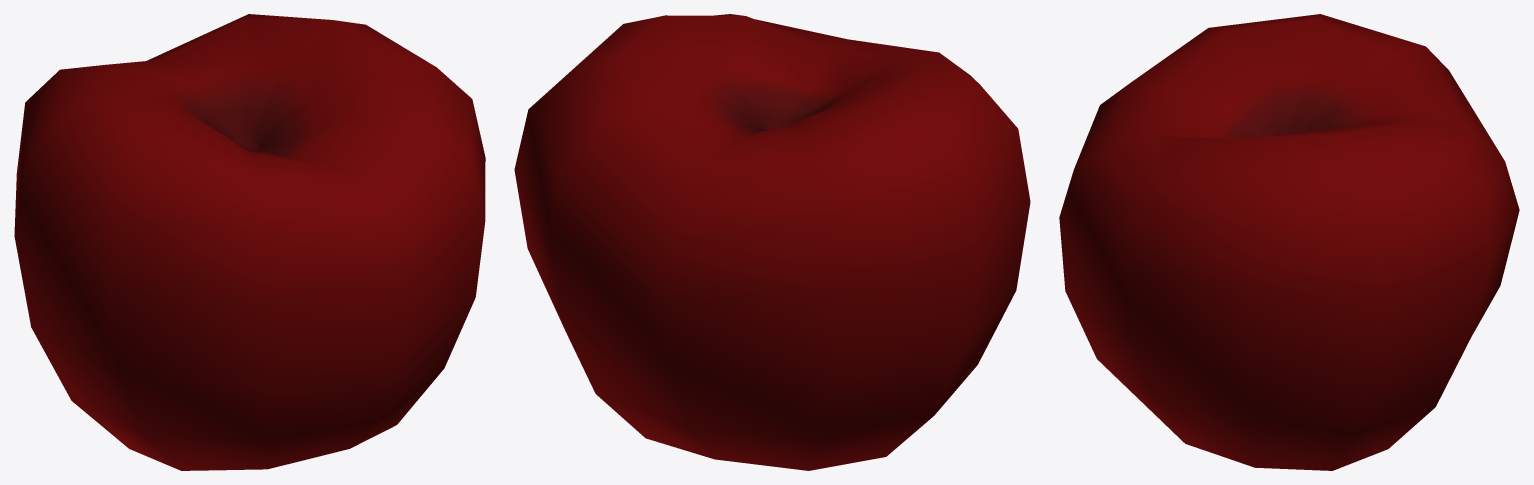
Rendered from cherry5.fbx.
3 renders of one model, left to right at view 1: azimuth 30°, elevation 25°; view 2: azimuth 150°, elevation 25°; view 3: azimuth 270°, elevation 25°, orthographic. The views are drawn at different scales.
Parts seen in each view (by area): view 1: 체리3; view 2: 체리3; view 3: 체리3.
Part boxes in pixels (x1,y1,x2,y2): 체리3: (14, 14, 485, 470); 체리3: (514, 14, 1030, 470); 체리3: (1059, 14, 1519, 470).
Size of the model in its own units: 173 by 142 by 168.
